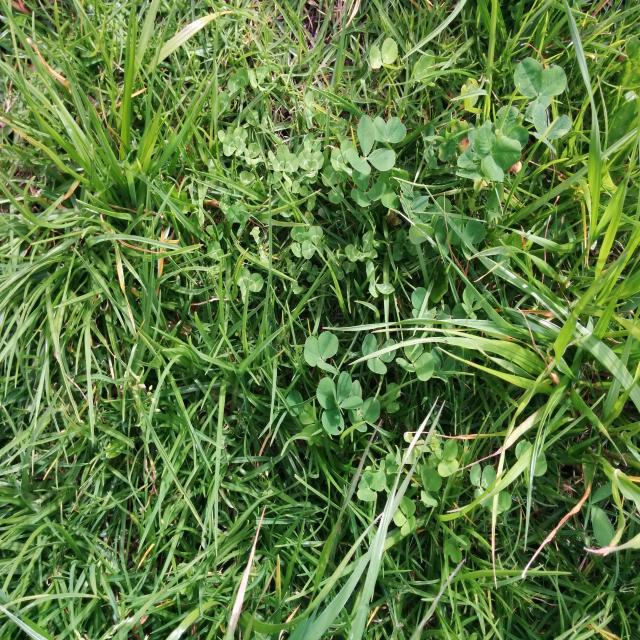Four Leaf Clover: (316, 371, 363, 435)
